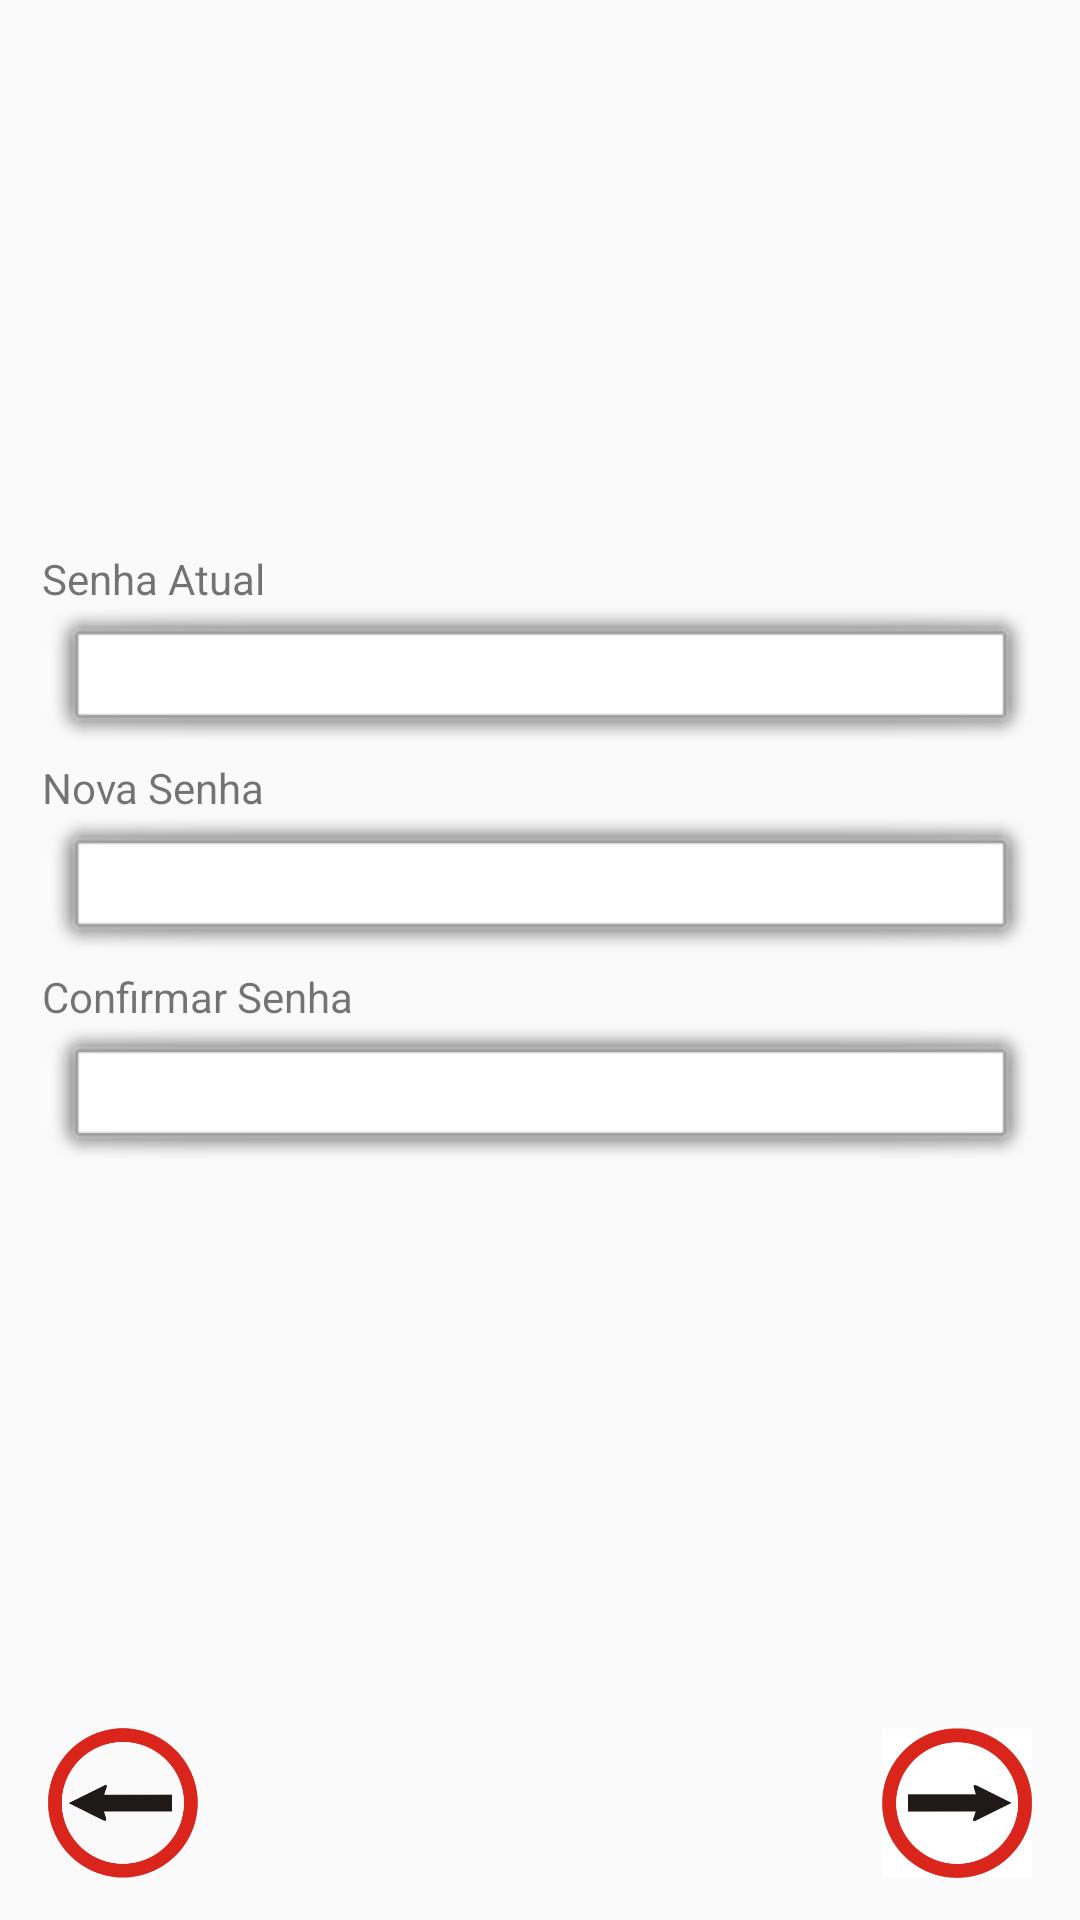

Locate icon controls on the screen. Image size 1080w x 1920h, boxes as (x1, y1, x2, y2).
voltar: (48, 1728, 198, 1878)
